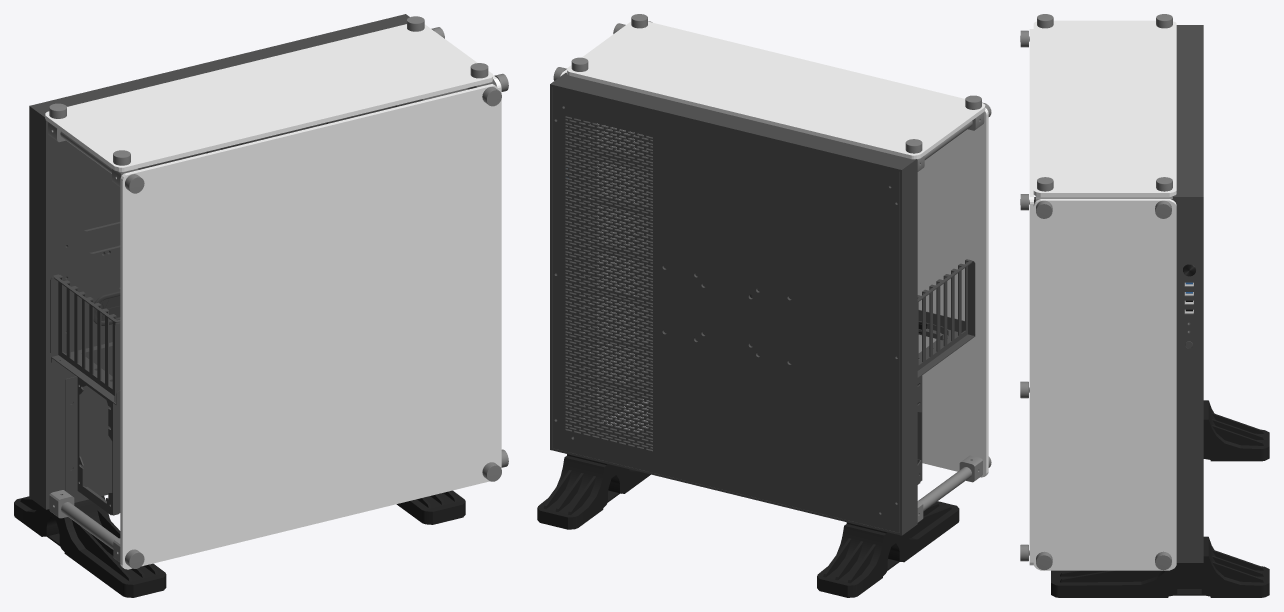
File: case.glb
3 views of the same model, side by side, from view 1: azimuth 30°, elevation 25°; view 2: azimuth 150°, elevation 25°; view 3: azimuth 270°, elevation 25° (orthographic). The views are drawn at different scales.
Parts seen in each view (by area): view 1: GlassFront, GlassTop, pCube884, pCube889, Foot1, pCube1235, pCube890, PSU_Bracket1, BackPanel, GlassSide, Foot, GPU_Bracket1 (+1 smaller); view 2: BackPanel, GlassTop, GlassFront, pCube889, Foot1, pCube890, Foot, pCube1235, pCube884, pCube896, GPU_Bracket1, pCube891 (+3 smaller); view 3: GlassSide, GlassTop, pCube896, Foot, pCube890, Foot1, GlassFront.
Part boxes in pixels (x1,y1,x2,y2): GlassFront: (120,84,498,569); GlassTop: (45,24,492,171); pCube884: (44,99,422,509); pCube889: (29,105,45,507); Foot1: (14,496,166,597); pCube1235: (50,274,120,402); pCube890: (32,14,407,115); PSU_Bracket1: (65,376,120,515); BackPanel: (83,106,395,361); GlassSide: (422,75,501,468); Foot: (396,490,465,524); GPU_Bracket1: (51,342,120,405); BackPanel: (552,87,899,532); GlassTop: (567,21,985,159); GlassFront: (635,108,988,477); pCube889: (900,159,915,535); Foot1: (817,501,959,597); pCube890: (552,74,913,171); Foot: (537,431,650,529); pCube1235: (917,259,975,370); pCube884: (564,72,917,524); pCube896: (550,74,565,450); GPU_Bracket1: (917,310,975,378); pCube891: (552,448,899,534); GlassSide: (1033,199,1176,570); GlassTop: (1033,20,1176,197); pCube896: (1175,196,1203,562); Foot: (1051,536,1269,597); pCube890: (1175,26,1203,195); Foot1: (1203,400,1269,461); GlassFront: (1029,29,1033,565).
Bounding box in the file's own units: 0.1781 × 0.1955 × 0.105.
Materials: 13 (1 with a texture image).
